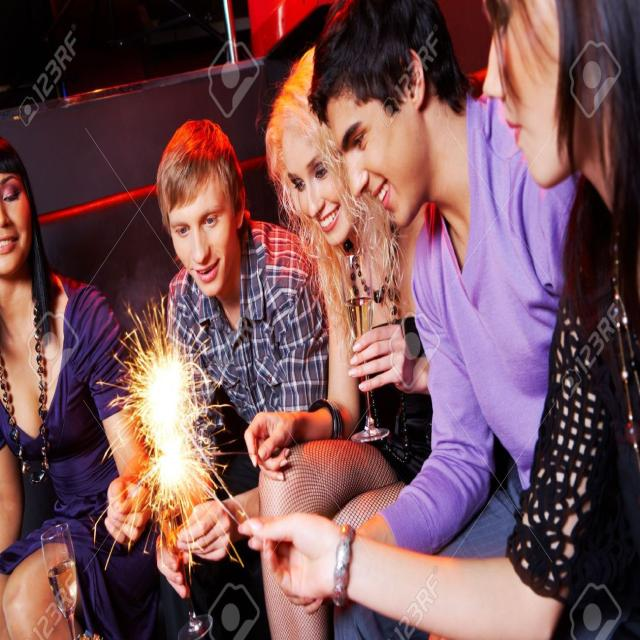body: (283, 0, 584, 638), (284, 0, 581, 639), (244, 43, 431, 636), (147, 116, 332, 640), (0, 133, 147, 639)
